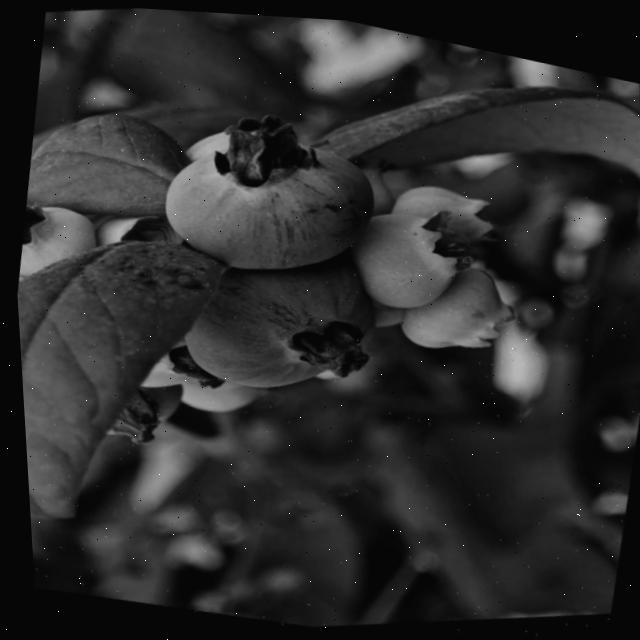RipeBlueBerry: (107, 70, 412, 330), (138, 209, 417, 456)
